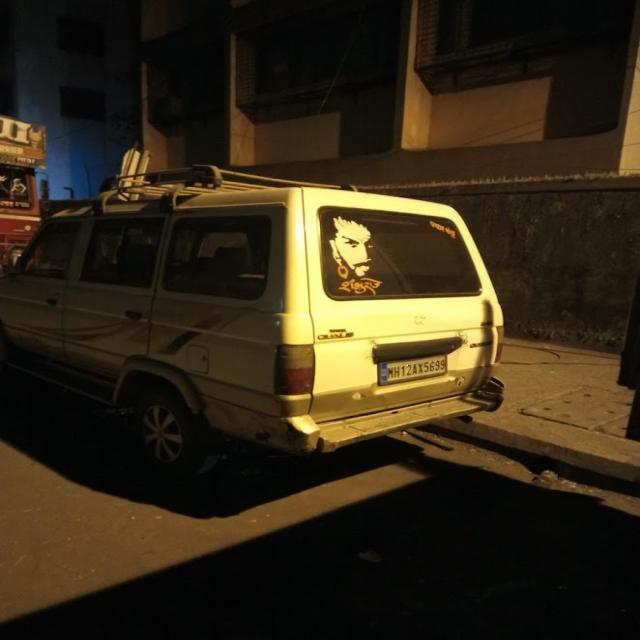Number-Plate: (378, 354, 446, 384)
